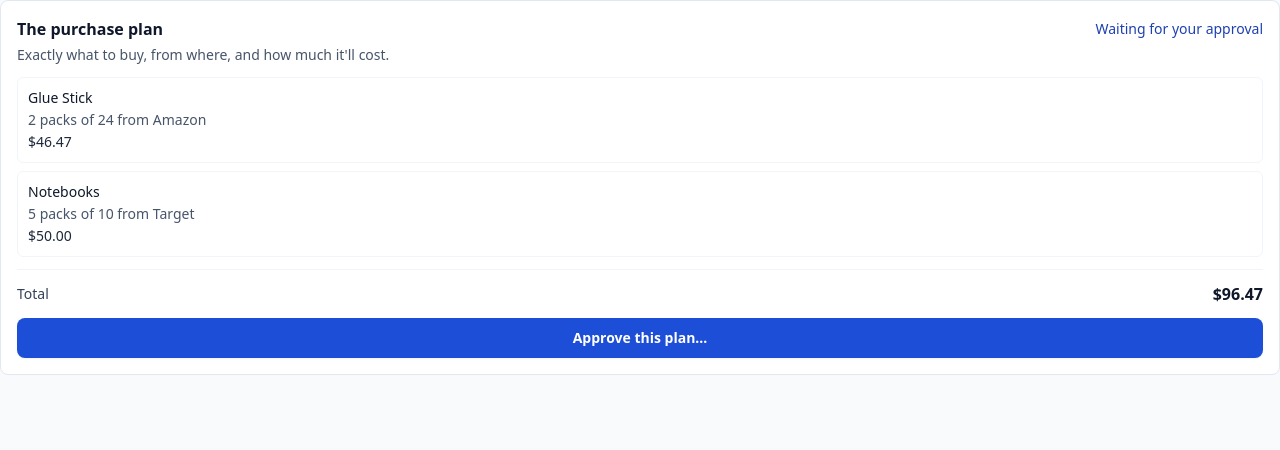
Scenario: PurchasePlanPanel › approves the plan after an explicit confirm step, updating local state without a reload
Check: the text "Glue Stick" is shown, box 28,88 -> 92,107
Check: the button "yes, approve this plan" is not shown
Click the button "Approve this plan…" at (640, 338), box 17,318 -> 1263,358
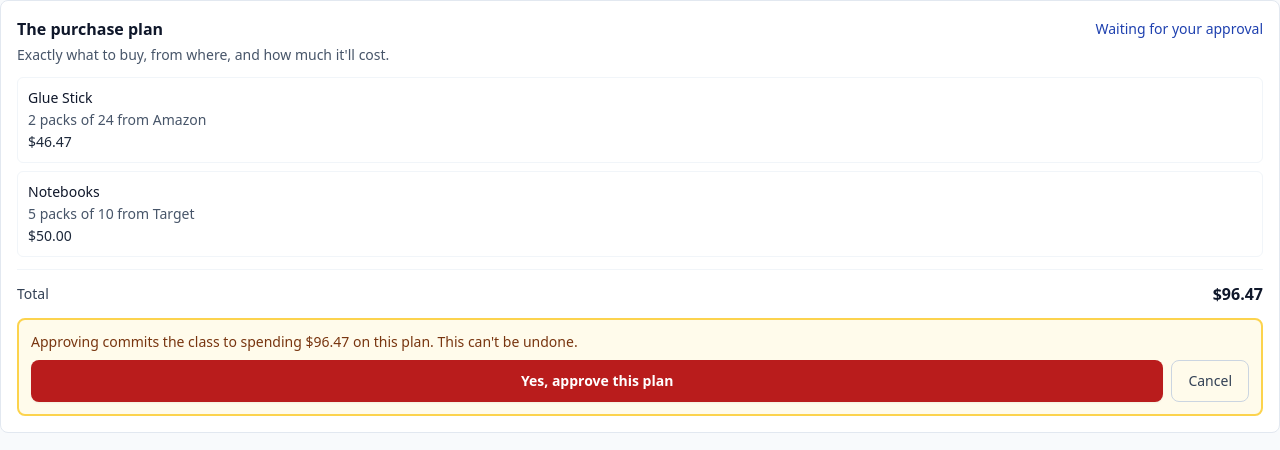
Check: the text "commits the class to spending" is shown, box 31,332 -> 302,351
Click the button "Yes, approve this plan" at (597, 381), box 31,360 -> 1163,402
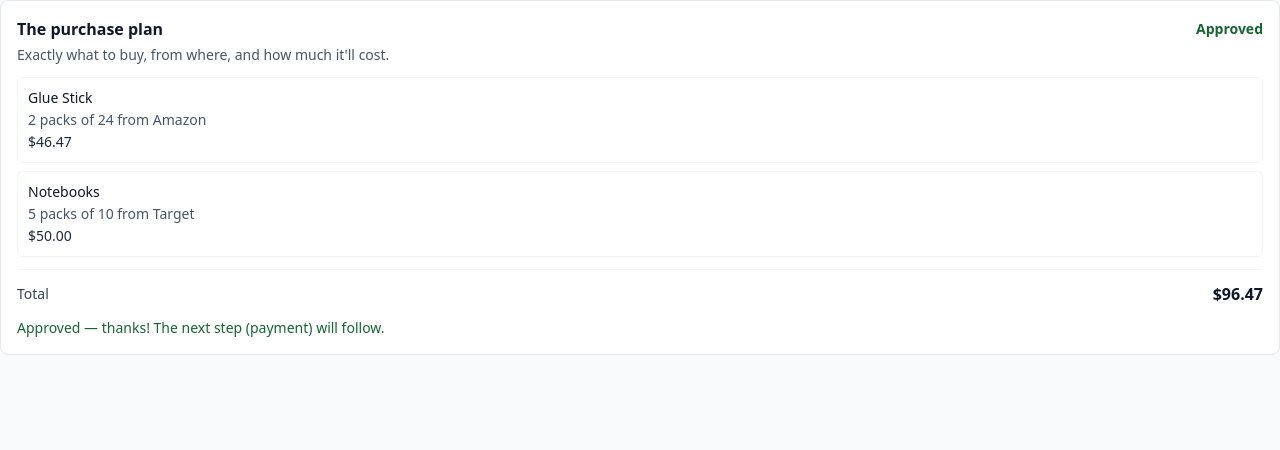
Check: the text "Approved" is shown, box 1196,19 -> 1263,39
Check: the button "approve this plan" is gone
